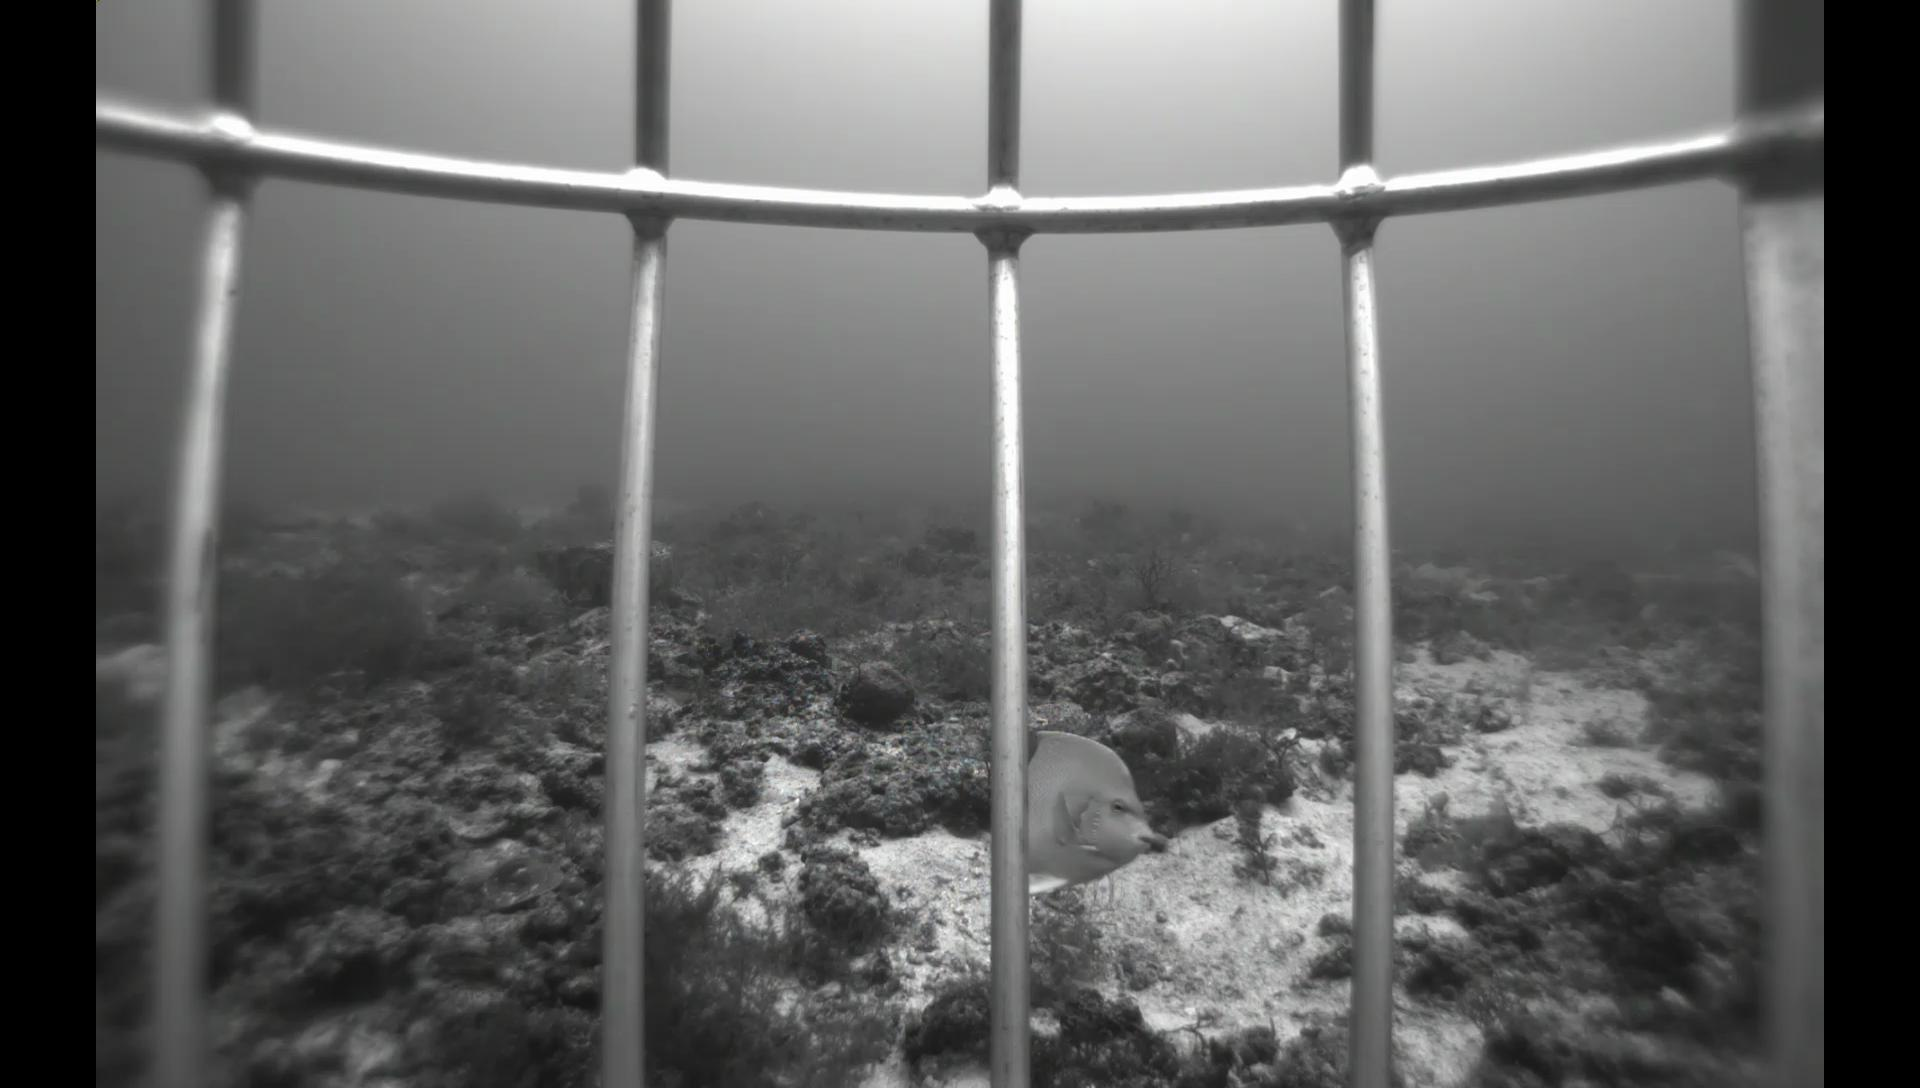HOLACANTHUSBERMUDENSIS-170290102: (1021, 723, 1182, 913), (1704, 542, 1760, 587)
SERRANUSANNULARIS-170024201: (415, 939, 524, 980)
